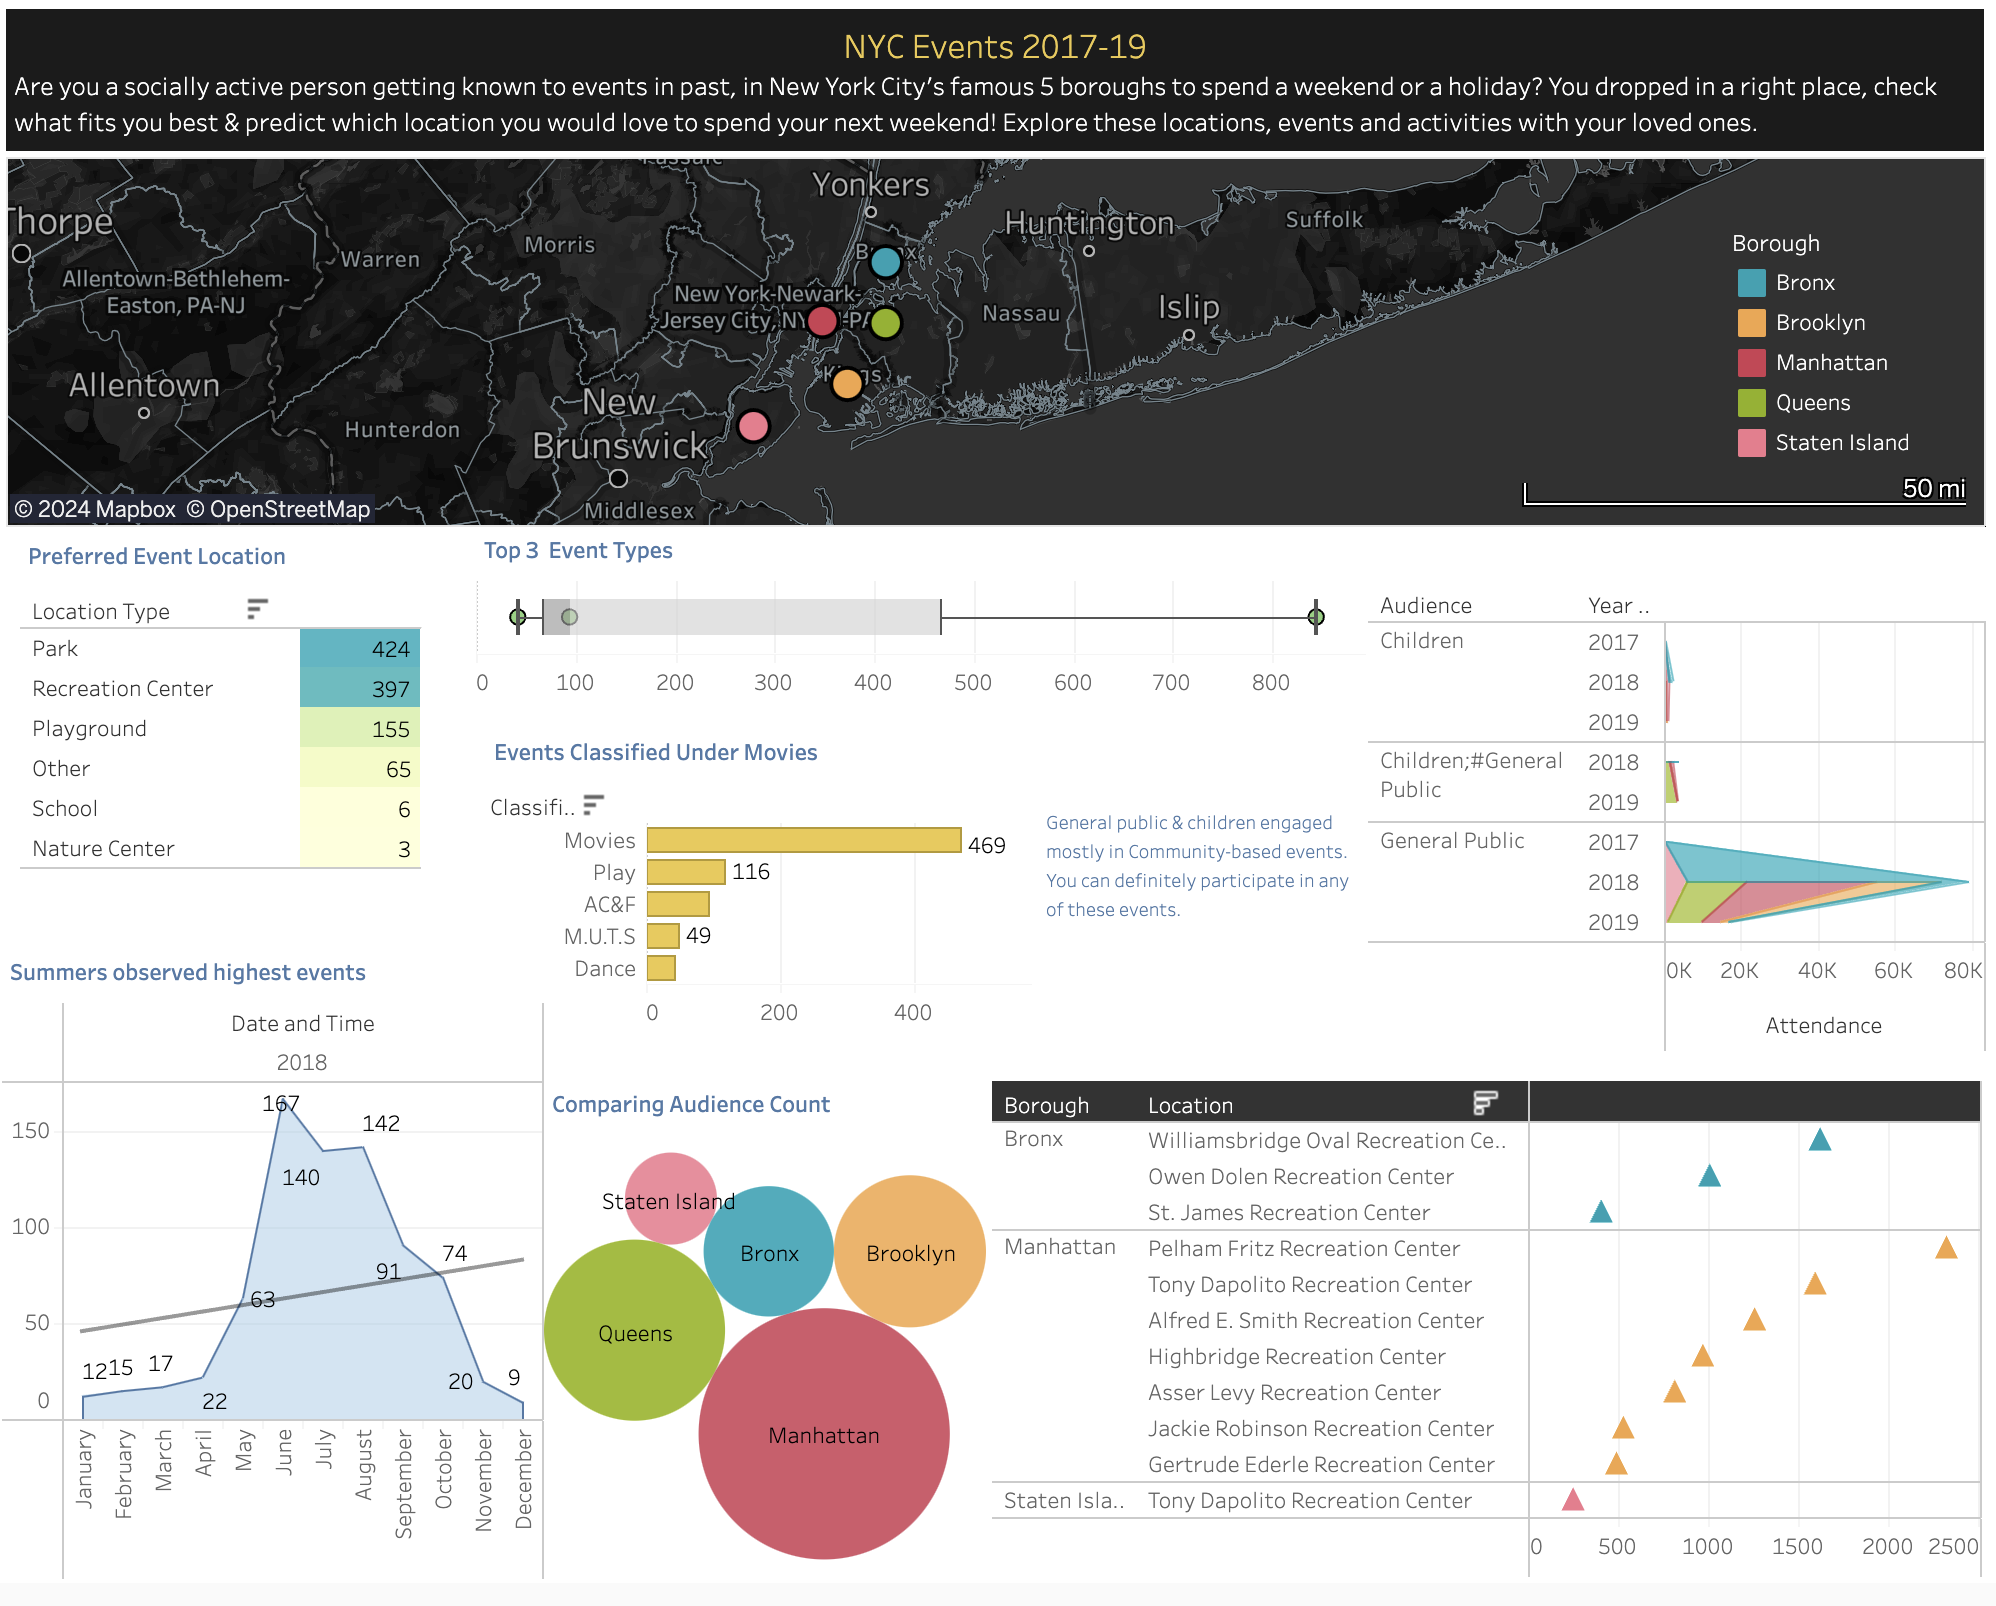

Layout of this report page (visuals, bound fields, positions):
{"tool":"tableau","page":{"name":"Dashboard 1","canvas":[1000,800],"ordinal":0},"visuals":[{"type":"worksheet","title":"Sheet 10","mark":"Automatic","rows":["Lat"],"cols":["Long"],"box":[3,13,990,259]},{"type":"legend","title":"Sheet 10","param":"[federated.06m96110z47jj91dj6zfx0xf7f4r].[none:Borough:nk]","box":[866,122,125,127]},{"type":"worksheet","title":"Sheet 6","mark":"Circle","cols":["Parks_Special_Events.csv_F5005D49D9F241B79AC9D00F12276F00"],"box":[238,269,449,118]},{"type":"worksheet","title":"Sheet 12","mark":"Square","rows":["LocationType"],"box":[10,272,203,181]},{"type":"worksheet","title":"Sheet 9","mark":"Area","rows":["Audience","Date and Time"],"cols":["Attendance"],"box":[684,284,310,259]},{"type":"worksheet","title":"Sheet 8","mark":"Automatic","rows":["Classification"],"cols":["Parks_Special_Events.csv_F5005D49D9F241B79AC9D00F12276F00"],"box":[243,370,274,166]},{"type":"text","box":[523,387,152,107]},{"type":"worksheet","title":"Sheet 14","mark":"Area","rows":["Parks_Special_Events.csv_F5005D49D9F241B79AC9D00F12276F00"],"cols":["Date and Time","Date and Time"],"box":[1,480,275,319]},{"type":"worksheet","title":"Sheet 4","mark":"Circle","box":[272,546,234,251]}]}

Visuals, with their boxes in screenshot pixels (x1, y1, x2, y2), scaled from the page's 1000x800 canvas onto the 1996x1606 screenshot:
"Sheet 10" worksheet: {"x1": 6, "y1": 26, "x2": 1982, "y2": 546}
"Sheet 10" legend: {"x1": 1729, "y1": 245, "x2": 1978, "y2": 500}
"Sheet 6" worksheet (Circle marks): {"x1": 475, "y1": 540, "x2": 1371, "y2": 777}
"Sheet 12" worksheet (Square marks): {"x1": 20, "y1": 546, "x2": 425, "y2": 909}
"Sheet 9" worksheet (Area marks): {"x1": 1365, "y1": 570, "x2": 1984, "y2": 1090}
"Sheet 8" worksheet: {"x1": 485, "y1": 743, "x2": 1032, "y2": 1076}
text: {"x1": 1044, "y1": 777, "x2": 1347, "y2": 992}
"Sheet 14" worksheet (Area marks): {"x1": 2, "y1": 964, "x2": 551, "y2": 1604}
"Sheet 4" worksheet (Circle marks): {"x1": 543, "y1": 1096, "x2": 1010, "y2": 1600}
